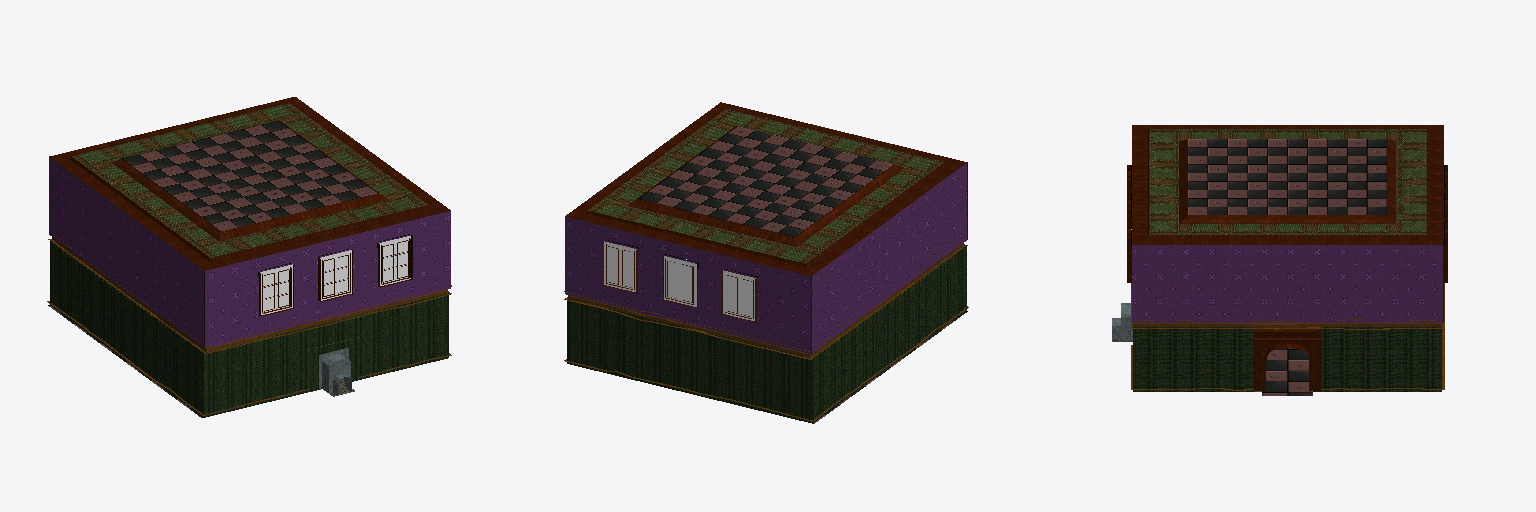
3 renders of one model, left to right at view 1: azimuth 30°, elevation 25°; view 2: azimuth 150°, elevation 25°; view 3: azimuth 270°, elevation 25°, orthographic.
Visible parts, largest first — view 1: starwall, grewall, pinktile, wood2, ceiling, envglass, wood4, marble; view 2: starwall, grewall, pinktile, wood2, ceiling, envglass, wood4; view 3: starwall, pinktile, grewall, wood2, ceiling, wood4, marble.
Part boxes in pixels (left/top/right/bottom): starwall: left=49, top=135, right=450, bottom=347; grewall: left=50, top=239, right=448, bottom=417; pinktile: left=48, top=120, right=376, bottom=417; wood2: left=49, top=97, right=450, bottom=347; ceiling: left=72, top=103, right=427, bottom=257; envglass: left=260, top=236, right=410, bottom=314; wood4: left=47, top=237, right=451, bottom=415; marble: left=308, top=337, right=358, bottom=395; starwall: left=565, top=144, right=966, bottom=353; grewall: left=567, top=245, right=966, bottom=422; pinktile: left=639, top=126, right=967, bottom=423; wood2: left=565, top=102, right=967, bottom=353; ceiling: left=588, top=109, right=943, bottom=263; envglass: left=604, top=241, right=755, bottom=320; wood4: left=564, top=243, right=968, bottom=421; starwall: left=1132, top=245, right=1442, bottom=322; pinktile: left=1188, top=139, right=1386, bottom=395; grewall: left=1134, top=327, right=1441, bottom=391; wood2: left=1127, top=125, right=1447, bottom=391; ceiling: left=1149, top=129, right=1426, bottom=234; wood4: left=1131, top=283, right=1444, bottom=390; marble: left=1112, top=303, right=1132, bottom=340.
Size of the model in its own units: 3425 by 2000 by 3920.
Materials: 11 (10 with a texture image).